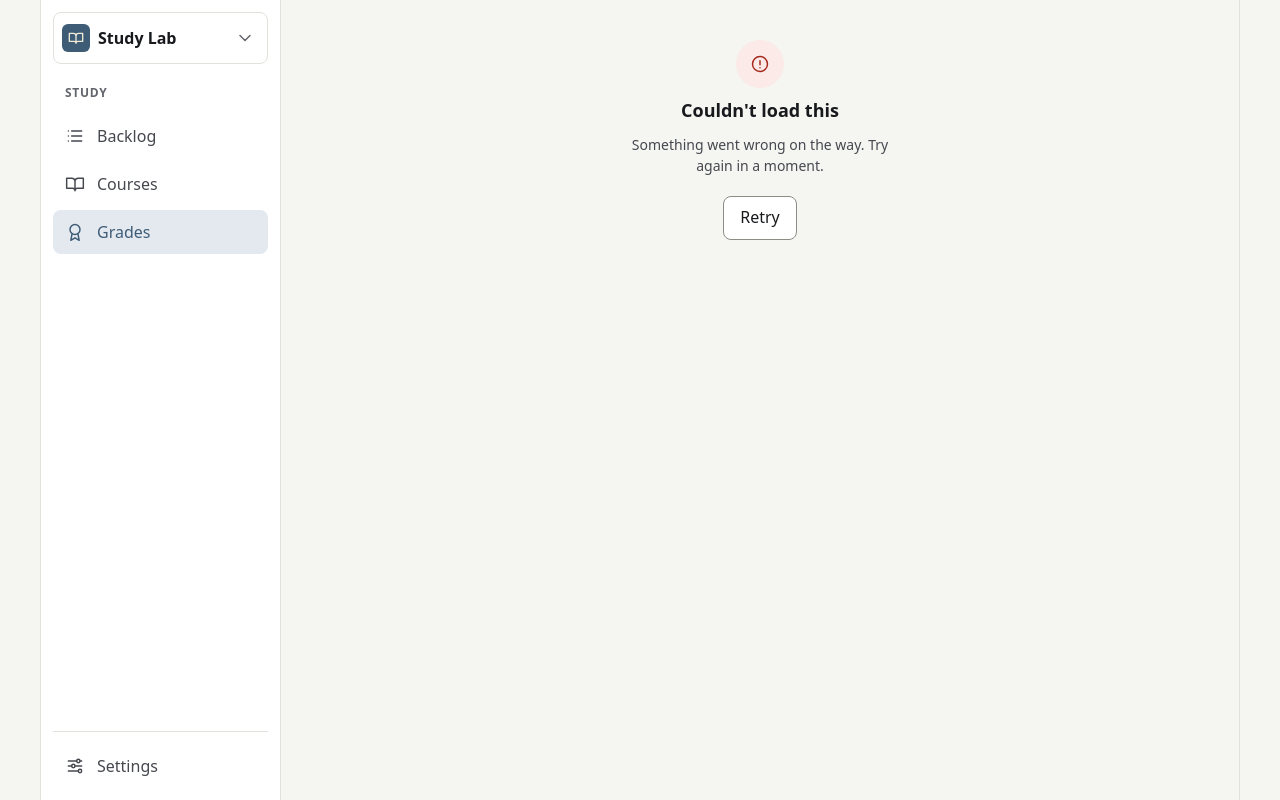
Test: Grades › tells a failed read from offline
Check: the text "Couldn't load this" is shown, box [681, 100, 839, 122]
Click the button "Retry" at coordinates (760, 218), box [723, 196, 797, 240]
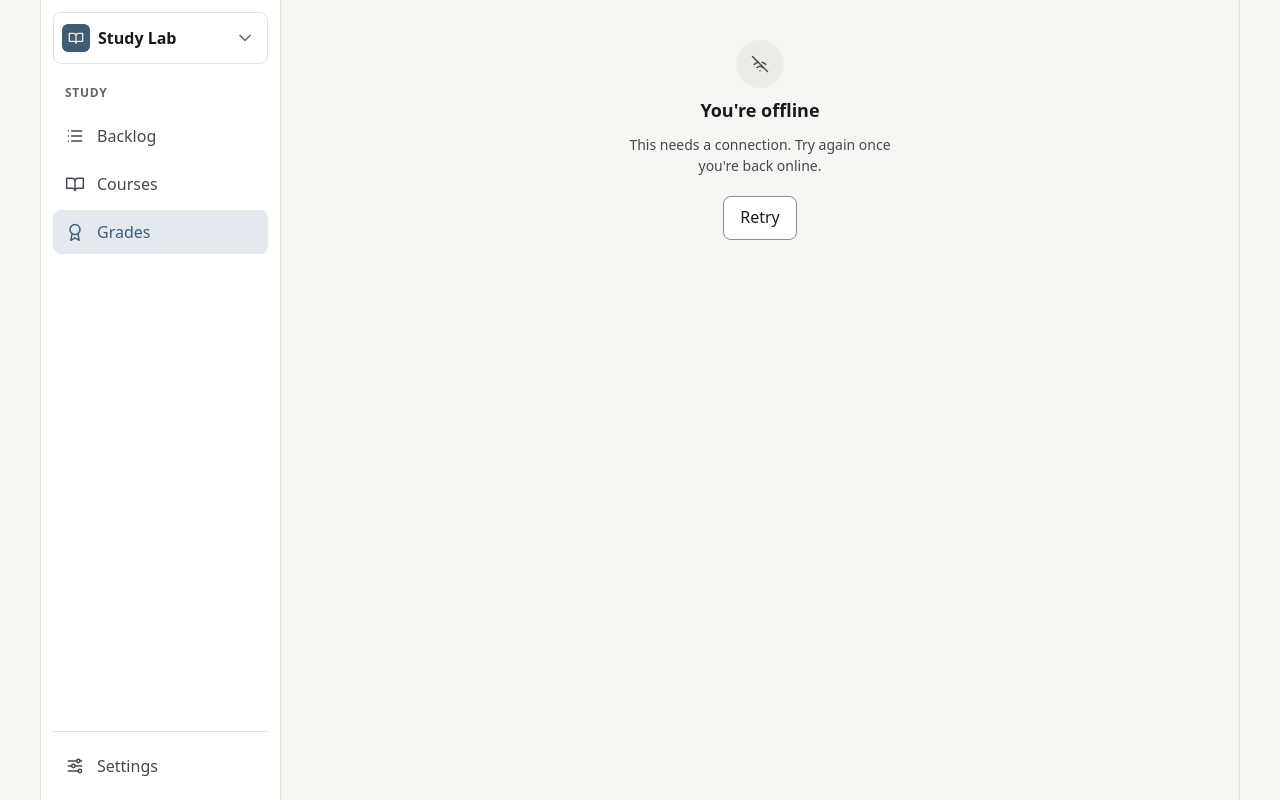
Check: the text "You're offline" is shown, box [700, 100, 820, 122]
